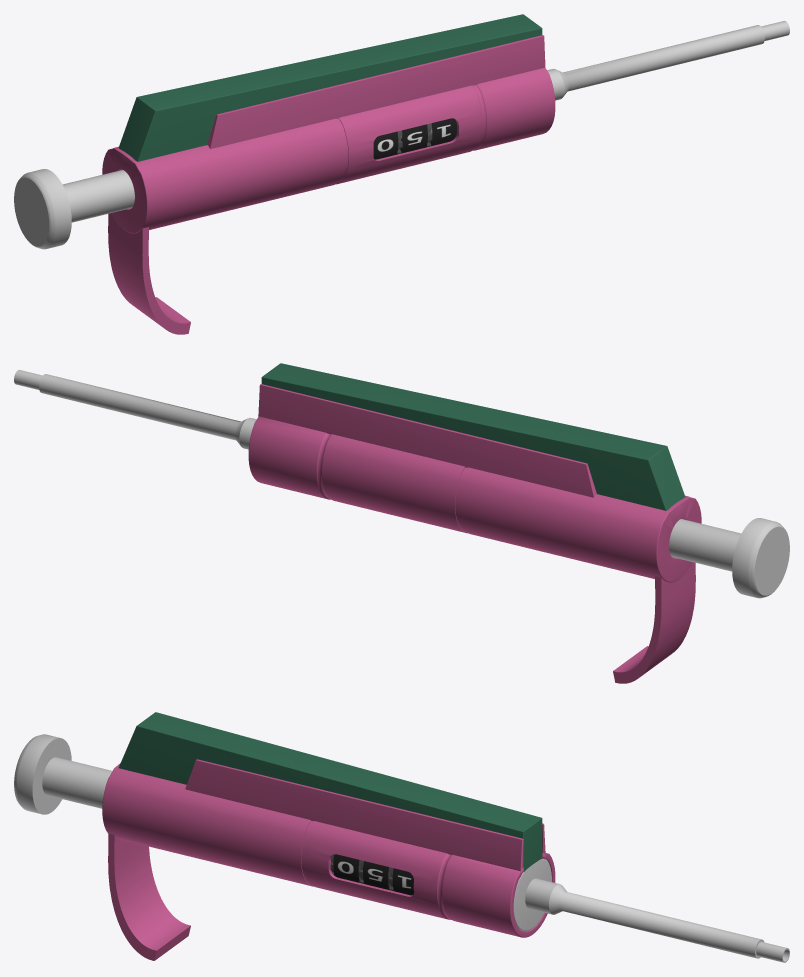
Rendered from Самплер1.dae.
3 views of the same model, one above another, from view 1: azimuth 30°, elevation 25°; view 2: azimuth 150°, elevation 25°; view 3: azimuth 330°, elevation 25° (orthographic).
Visible parts, largest first — view 1: Тушка, Сброс_Куб, Стенка2, Труба, Объект_Куб, Шляпка, Палка_к_шляпке_, Объект_Цилиндр (×3), Стекло; view 2: Тушка, Сброс_Куб, Стенка1, Труба, Объект_Куб, Шляпка, Палка_к_шляпке_; view 3: Тушка, Сброс_Куб, Стенка2, Объект_Куб, Труба, Шляпка, Палка_к_шляпке_, Стекло, Объект_Цилиндр (×3), Диск_от_тушки, Кончик_для_наконечника.
Part boxes in pixels (left/top/right/bottom): Тушка: left=102, top=67, right=555, bottom=233; Сброс_Куб: left=118, top=14, right=542, bottom=161; Стенка2: left=207, top=35, right=545, bottom=149; Труба: left=547, top=25, right=764, bottom=100; Объект_Куб: left=108, top=213, right=190, bottom=334; Шляпка: left=14, top=169, right=71, bottom=249; Палка_к_шляпке_: left=42, top=170, right=134, bottom=222; Объект_Цилиндр (×3): left=373, top=118, right=456, bottom=159; Стекло: left=374, top=119, right=456, bottom=158; Тушка: left=248, top=416, right=701, bottom=582; Сброс_Куб: left=261, top=363, right=685, bottom=510; Стенка1: left=258, top=384, right=596, bottom=497; Труба: left=39, top=374, right=256, bottom=449; Объект_Куб: left=613, top=562, right=695, bottom=683; Шляпка: left=732, top=518, right=789, bottom=598; Палка_к_шляпке_: left=669, top=519, right=761, bottom=571; Тушка: left=102, top=763, right=555, bottom=937; Сброс_Куб: left=118, top=712, right=542, bottom=871; Стенка2: left=185, top=759, right=523, bottom=871; Объект_Куб: left=108, top=833, right=190, bottom=960; Труба: left=525, top=878, right=764, bottom=958; Шляпка: left=14, top=734, right=71, bottom=814; Палка_к_шляпке_: left=42, top=757, right=112, bottom=808; Стекло: left=331, top=855, right=413, bottom=894; Объект_Цилиндр (×3): left=333, top=854, right=413, bottom=895; Диск_от_тушки: left=513, top=858, right=551, bottom=930; Кончик_для_наконечника: left=756, top=941, right=789, bottom=962.
Size of the model in its own units: 0.2215 by 0.0627 by 0.0229.
